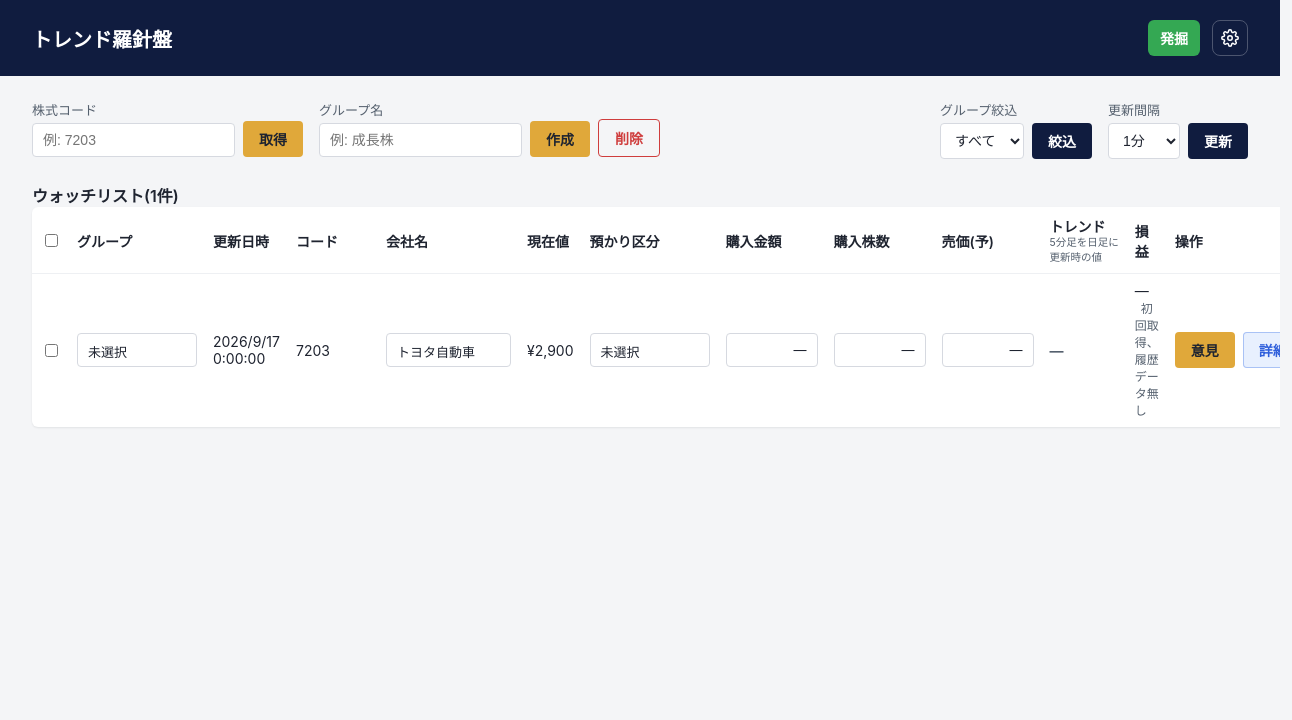
WatchlistPage › creates the perspectives once for a row without saved ones and shows them
Check: the button with aria-label "7203の会社名" is shown, box left=386, top=333, right=511, bottom=367
Click the button "意見": click(1205, 350) left=1175, top=332, right=1235, bottom=368
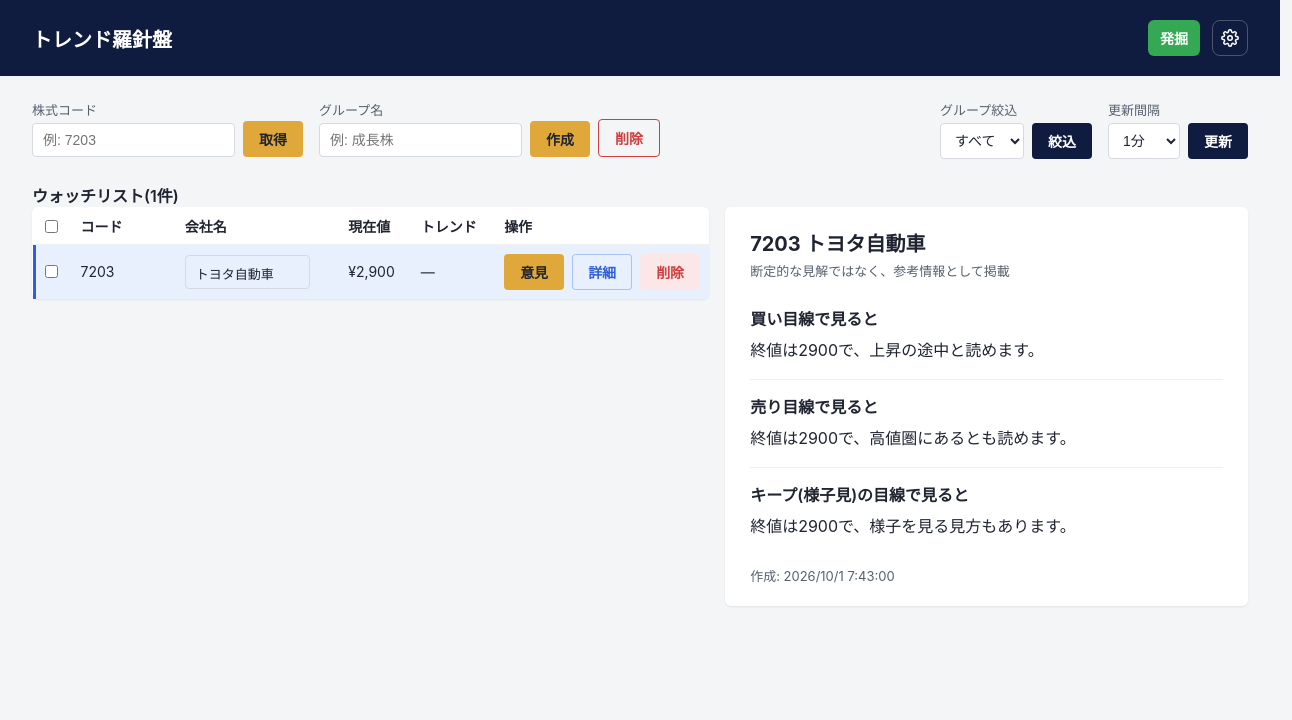
Check: the text "終値は2900で、上昇の途中と読めます。" is shown, box left=750, top=340, right=1044, bottom=360
